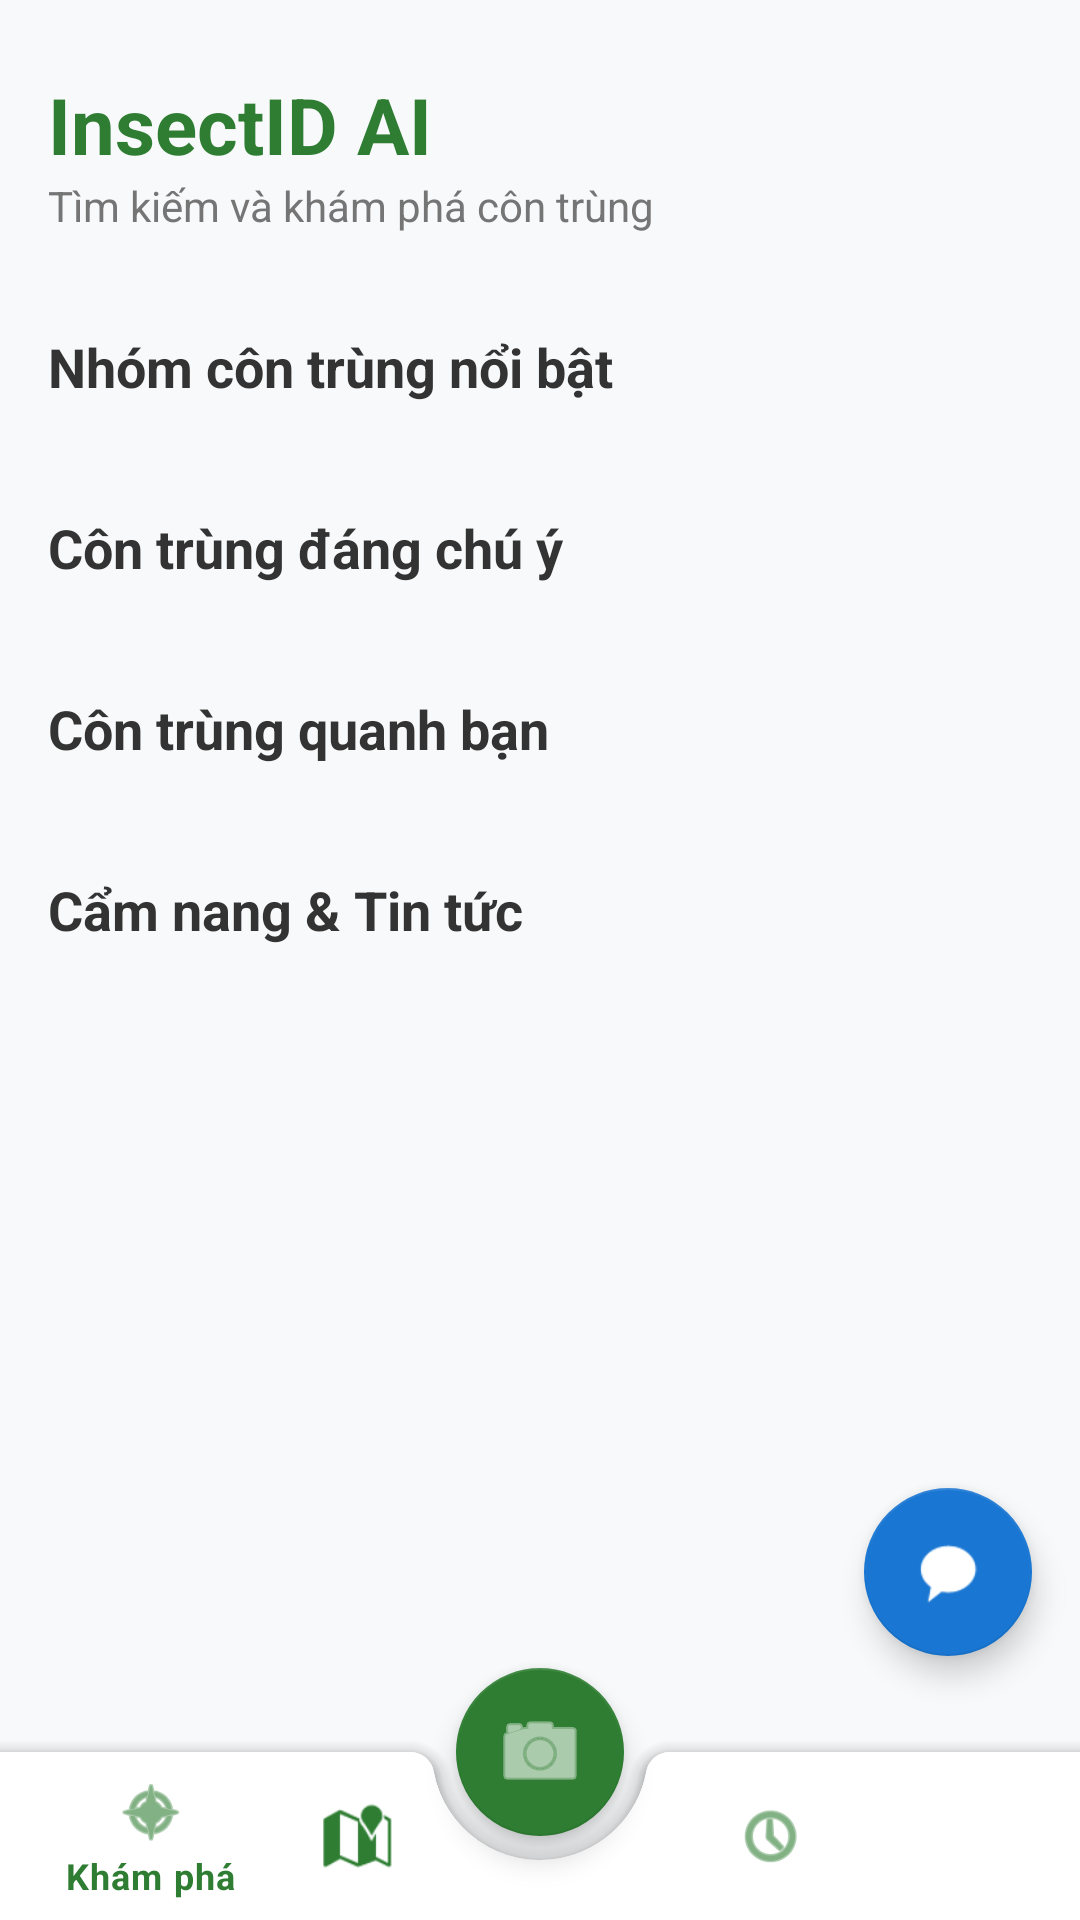

Point at icon controls on the screen. Image size 1080*1920, points as [x,y].
camera: [540,1752]
sym action chat: [948,1572]
